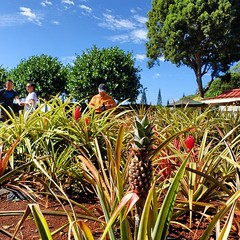Pineapple: (129, 116, 154, 196)
